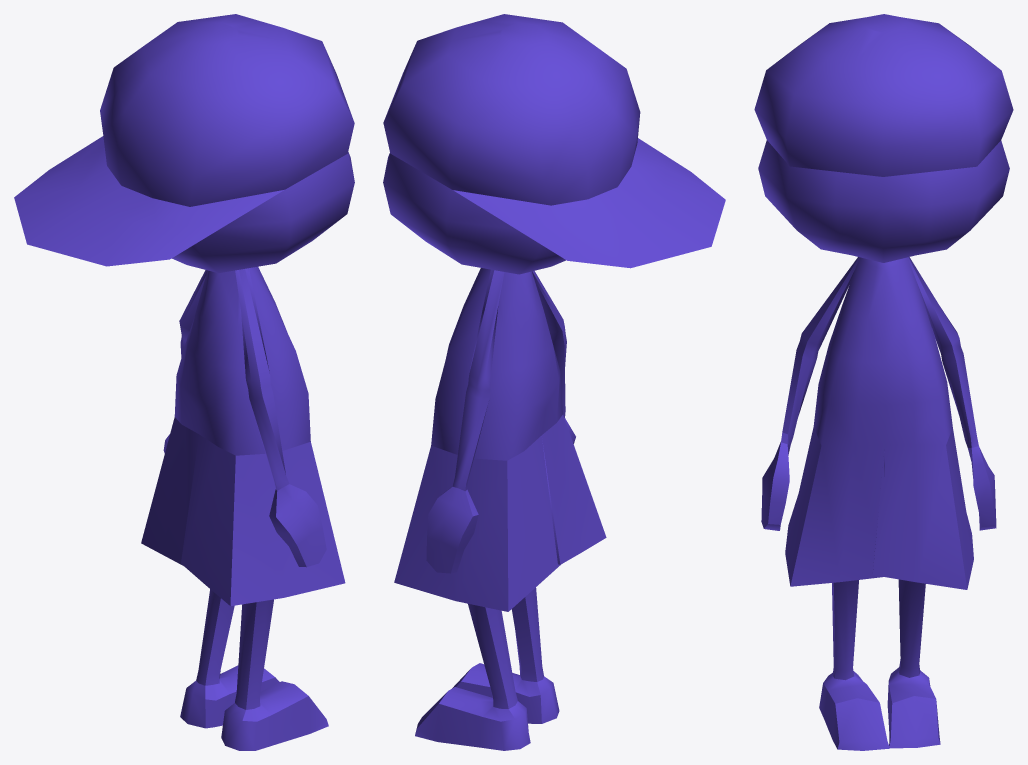
Rendered from openColadaChar.DAE.
3 renders of one model, left to right at view 1: azimuth 30°, elevation 25°; view 2: azimuth 150°, elevation 25°; view 3: azimuth 270°, elevation 25°, orthographic. The views are drawn at different scales.
Parts seen in each view (by area): view 1: char; view 2: char; view 3: char.
Part boxes in pixels (x1,y1,x2,y2): char: (14, 14, 354, 750); char: (383, 14, 725, 750); char: (754, 14, 1013, 750).
Bounding box in the file's own units: 18.6 × 13.79 × 40.32.
